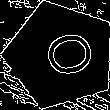O_W: (28, 27, 93, 84)
